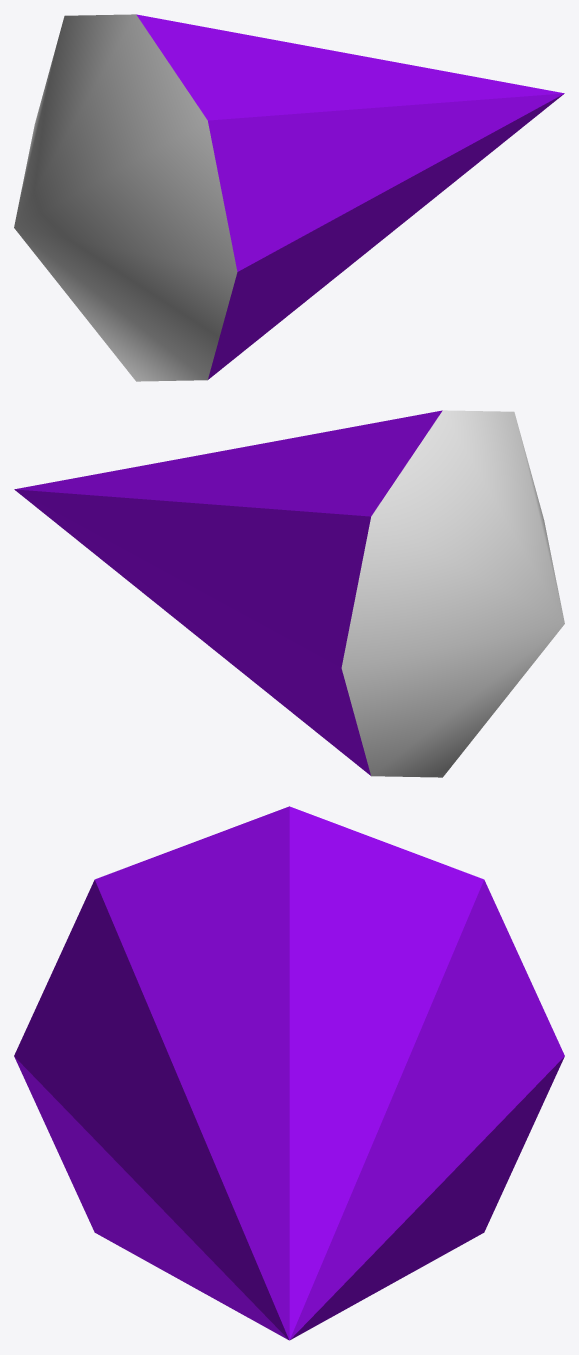
The model's file is SM_VFX_DRILL.fbx.
3 views of the same model, one above another, from view 1: azimuth 30°, elevation 25°; view 2: azimuth 150°, elevation 25°; view 3: azimuth 270°, elevation 25° (orthographic). The views are drawn at different scales.
Visible parts, largest first — view 1: SM_VFX_DRILL; view 2: SM_VFX_DRILL; view 3: SM_VFX_DRILL.
Boxes of the visible parts, x1,y1,x2,y2 form: SM_VFX_DRILL: (14, 14, 564, 381); SM_VFX_DRILL: (14, 410, 564, 777); SM_VFX_DRILL: (14, 806, 564, 1340).
Size of the model in its own units: 283 by 180 by 180.
